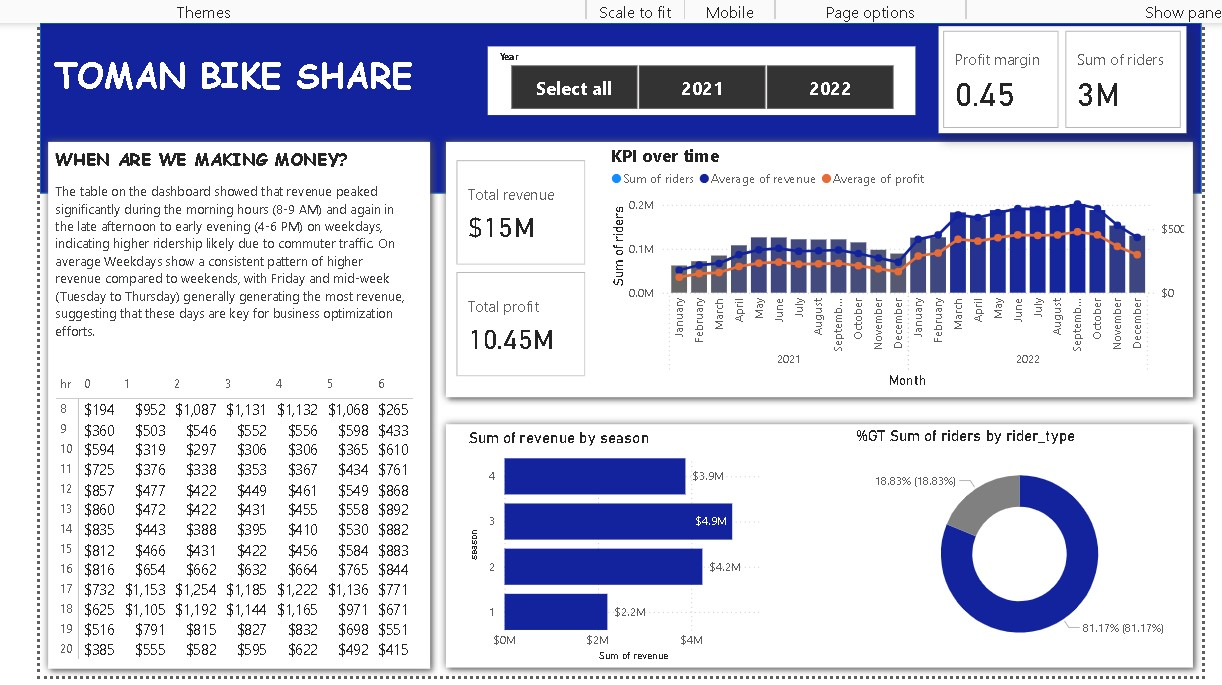

The page's visual inventory and layout, read from the dashboard file:
{"tool":"powerbi","page":{"name":"TOMAN BIKE ANALYSIS","canvas":[1280,720],"ordinal":0},"visuals":[{"type":"shape","box":[0,0,1279.5,187.8],"z":0},{"type":"shape","box":[0,121.3,438.7,598.2],"z":1000},{"type":"pivotTable","fields":{"Rows":["Query1.hr"],"Columns":["Query1.weekday"],"Values":["Avg(Query1.revenue)"]},"box":[11.6,382.2,408.8,324],"z":2000},{"type":"shape","box":[438.7,121.3,840.8,299.1],"z":3000},{"type":"shape","box":[438.7,433.7,840.8,285.8],"z":4000},{"type":"lineClusteredColumnComboChart","title":"KPI over time","fields":{"Y":["Sum(Query1.riders)"],"Y2":["Avg(Query1.revenue)","Avg(Query1.profit)"],"Category":["Query1.dteday.Variation.Date Hierarchy.Year","Query1.dteday.Variation.Date Hierarchy.Month","Query1.dteday.Variation.Date Hierarchy.Day"]},"box":[623.1,132.9,641.4,274.2],"z":5000},{"type":"cardVisual","title":"KPI over time","fields":{"Data":["Sum(Query1.revenue)","Sum(Query1.profit)"]},"box":[453.6,146.2,152.9,249.2],"z":6000},{"type":"barChart","fields":{"Category":["Query1.season"],"Y":["Sum(Query1.revenue)"]},"box":[466.9,447,345.6,260.9],"z":7000},{"type":"donutChart","fields":{"Y":["Sum(Query1.riders)"],"Category":["Query1.rider_type"]},"box":[894,445.3,370.5,260.9],"z":8000},{"type":"textbox","box":[11.6,132.9,407.1,48.2],"z":9000},{"type":"textbox","box":[11.6,169.5,395.5,191.1],"z":10000},{"type":"cardVisual","fields":{"Data":["Query1.Profit margin","Sum(Query1.riders)"]},"box":[990.2,4.2,273.3,117.7],"z":10001},{"type":"slicer","fields":{"Values":["Query1.Year"]},"box":[494,25.2,470.9,75.7],"z":10002},{"type":"textbox","box":[10.5,25.2,428.9,79.9],"z":10003}]}

Visuals, with their boxes in screenshot pixels (x1, y1, x2, y2):
shape: locate(32, 19, 1188, 189)
shape: locate(32, 129, 428, 669)
pivotTable - Query1.hr x Query1.weekday: locate(42, 365, 412, 657)
shape: locate(428, 129, 1188, 399)
shape: locate(428, 411, 1188, 669)
"KPI over time" lineClusteredColumnComboChart: locate(595, 139, 1175, 387)
"KPI over time" cardVisual: locate(442, 151, 580, 376)
barChart - Query1.season x Sum(Query1.revenue): locate(454, 423, 766, 659)
donutChart - Sum(Query1.riders) x Query1.rider_type: locate(840, 422, 1175, 657)
textbox: locate(42, 139, 410, 183)
textbox: locate(42, 172, 400, 345)
cardVisual - Query1.Profit margin x Sum(Query1.riders): locate(927, 23, 1174, 129)
slicer - Query1.Year: locate(478, 42, 904, 110)
textbox: locate(41, 42, 429, 114)
